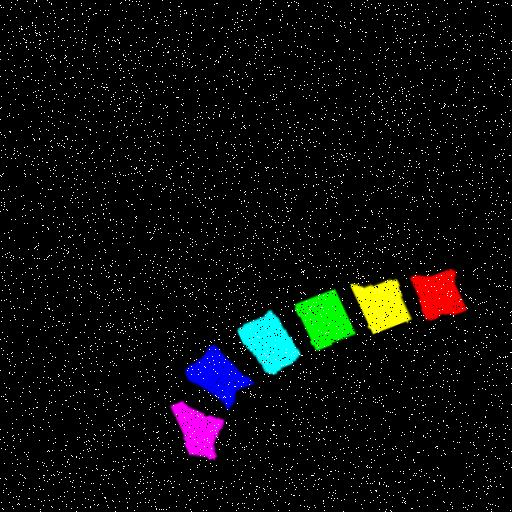L1: (406, 264, 461, 316)
L2: (346, 278, 406, 331)
L3: (290, 285, 350, 348)
L4: (233, 309, 296, 372)
L5: (180, 344, 249, 406)
S1: (165, 400, 220, 458)
